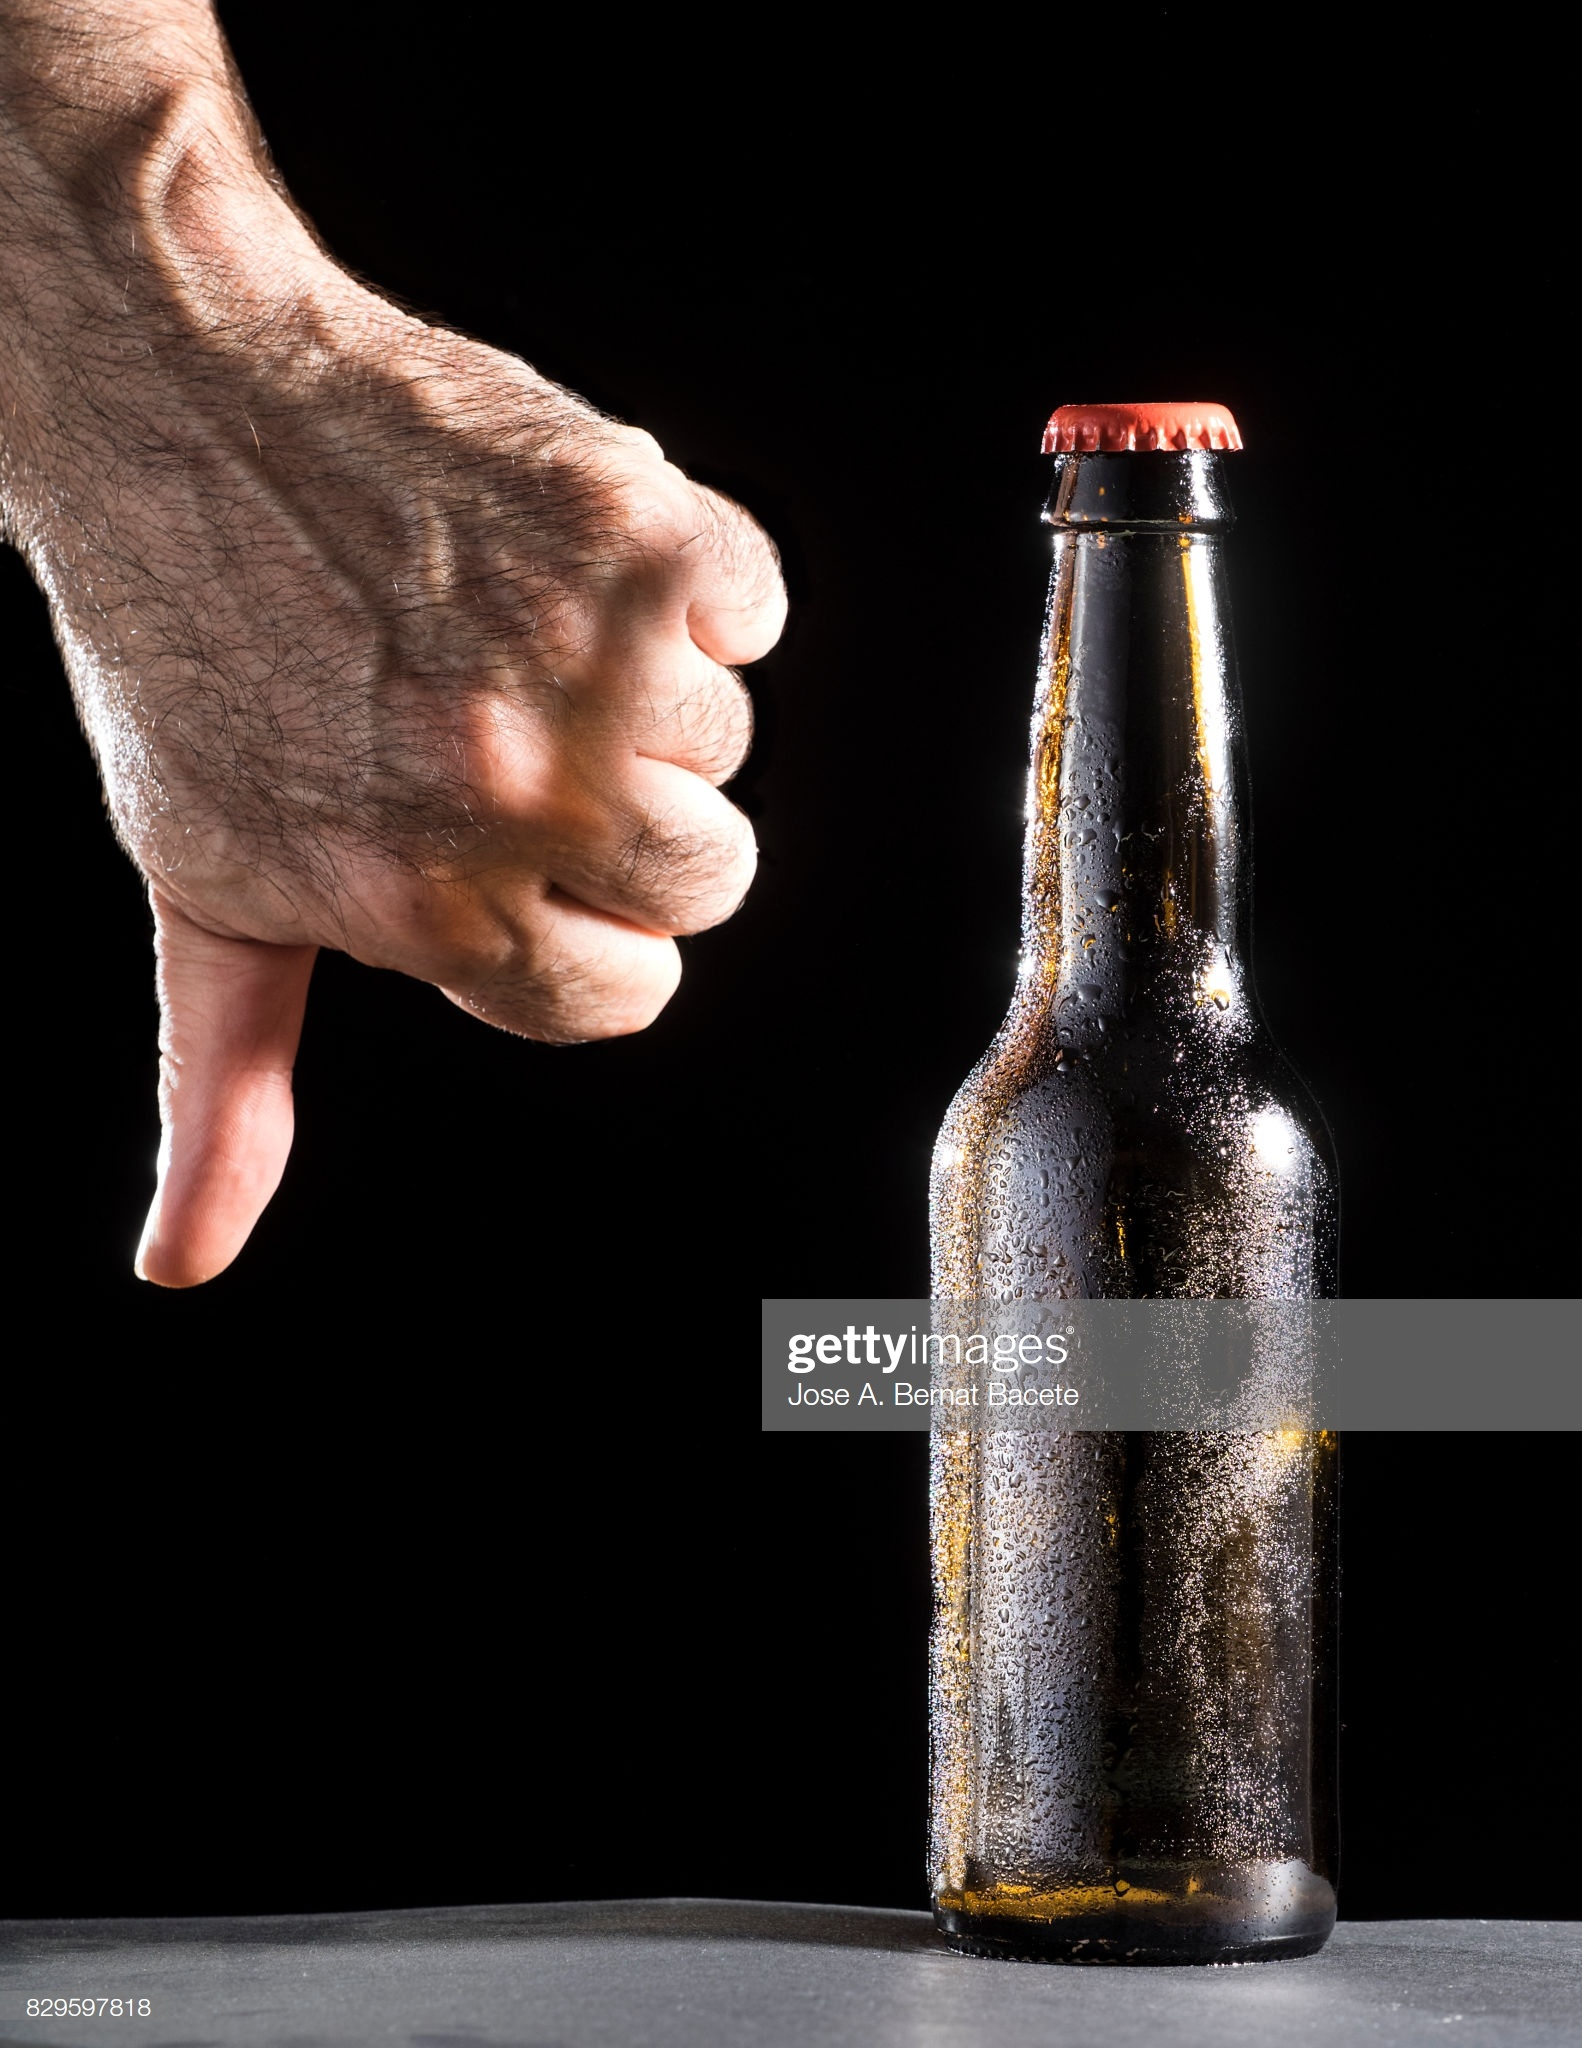beerBottle: (922, 407, 1336, 1963)
